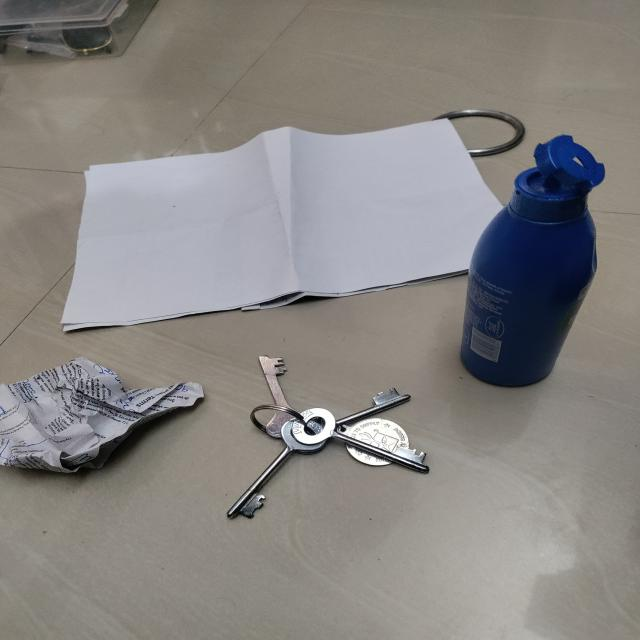dry: (64, 119, 458, 328), (460, 133, 608, 387), (225, 354, 432, 523), (0, 359, 203, 473), (0, 0, 157, 55), (435, 109, 526, 158)
